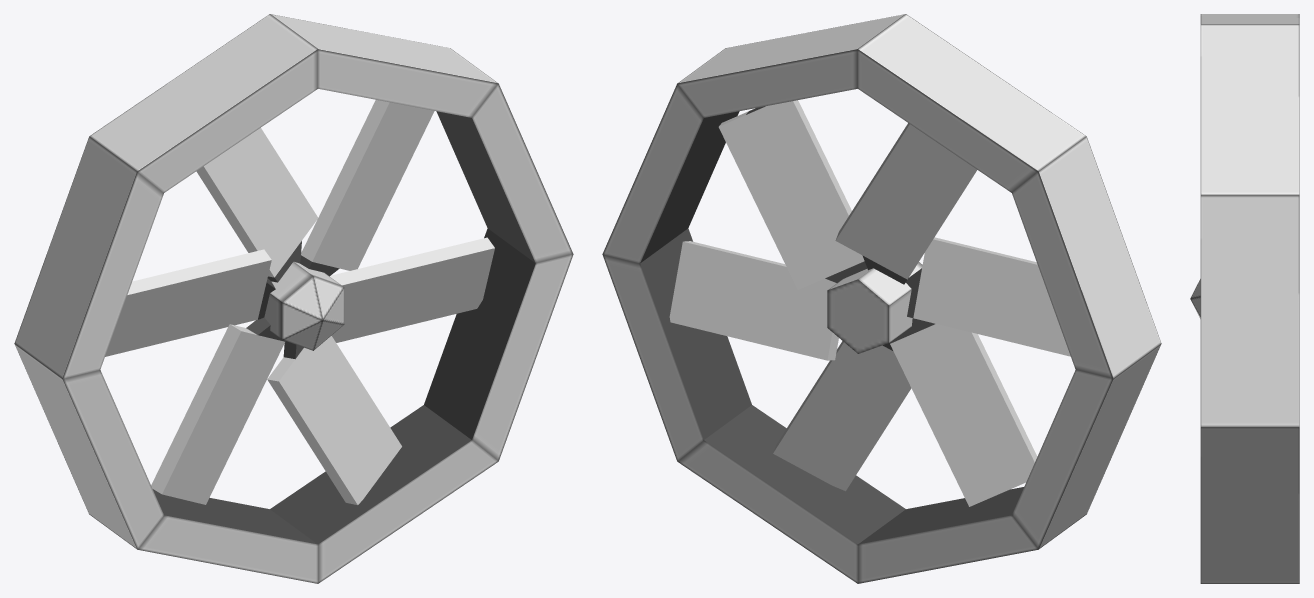
File: Ventilator-01.fbx
3 views of the same model, side by side, from view 1: azimuth 30°, elevation 25°; view 2: azimuth 150°, elevation 25°; view 3: azimuth 270°, elevation 25° (orthographic). The views are drawn at different scales.
Parts seen in each view (by area): view 1: Ventilator_01, Ventilator_01_Blades; view 2: Ventilator_01, Ventilator_01_Blades; view 3: Ventilator_01.
Part boxes in pixels (x1=…): Ventilator_01: x1=14, y1=14, x2=573, y2=583; Ventilator_01_Blades: x1=105, y1=100, x2=494, y2=505; Ventilator_01: x1=602, y1=14, x2=1161, y2=583; Ventilator_01_Blades: x1=669, y1=100, x2=1070, y2=506; Ventilator_01: x1=1190, y1=14, x2=1299, y2=583.
Size of the model in its own units: 1.3 by 1.3 by 0.2353.
